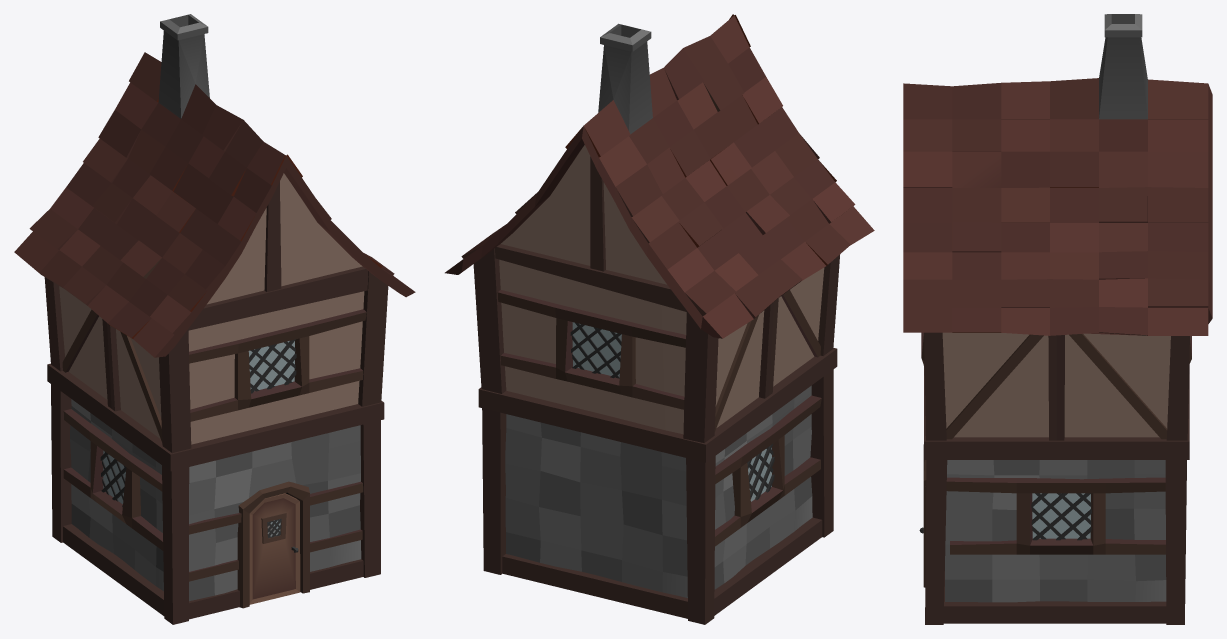
Rendered from HouseTall.fbx.
3 renders of one model, left to right at view 1: azimuth 30°, elevation 25°; view 2: azimuth 150°, elevation 25°; view 3: azimuth 270°, elevation 25°, orthographic. The views are drawn at different scales.
Parts seen in each view (by area): view 1: HouseTall, Door.001; view 2: HouseTall; view 3: HouseTall.
Boxes of the visible parts, x1,y1,x2,y2 form: HouseTall: [14, 14, 415, 624]; Door.001: [249, 493, 300, 604]; HouseTall: [445, 14, 874, 624]; HouseTall: [903, 14, 1212, 624].
Size of the model in its own units: 4.27 by 7.87 by 4.
